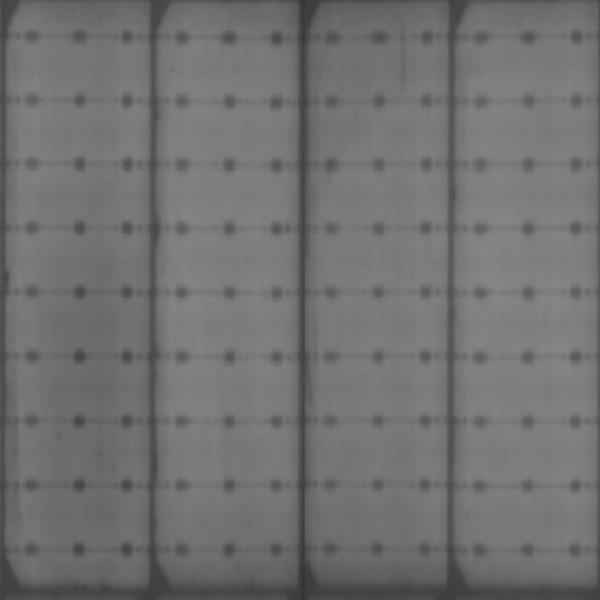scratch: (396, 20, 412, 94)
